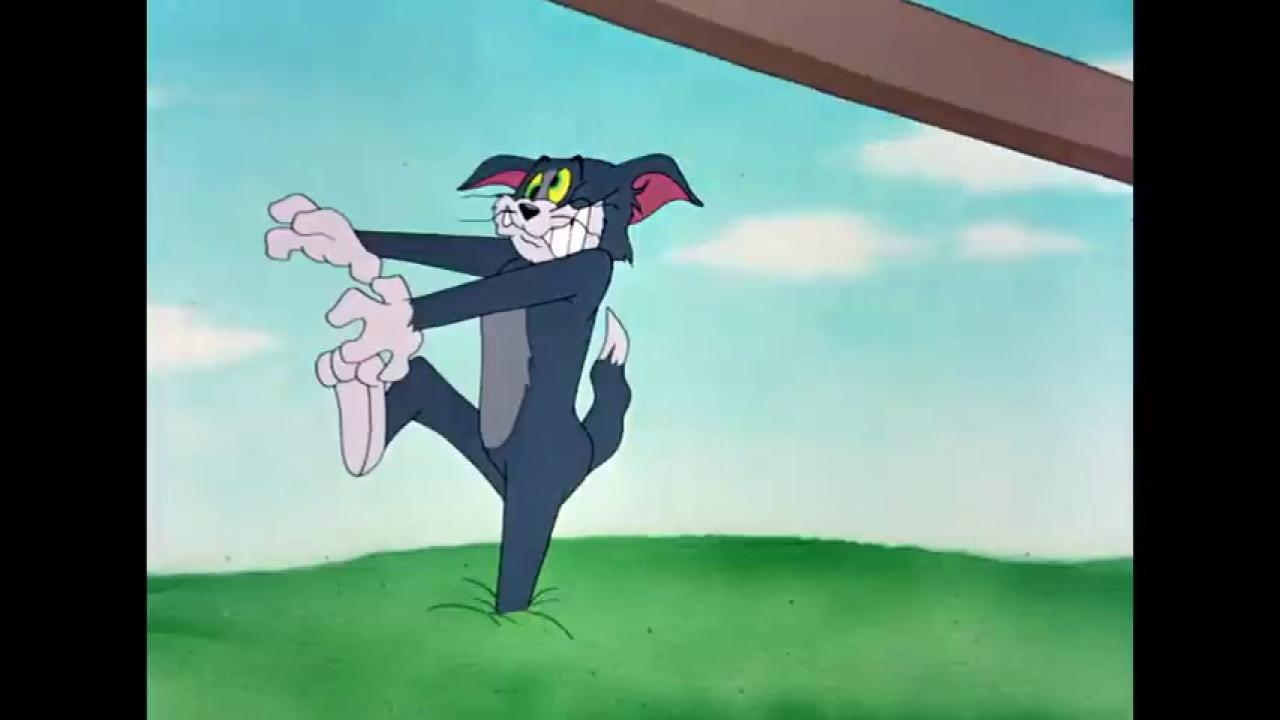Tom: (263, 148, 705, 611)
